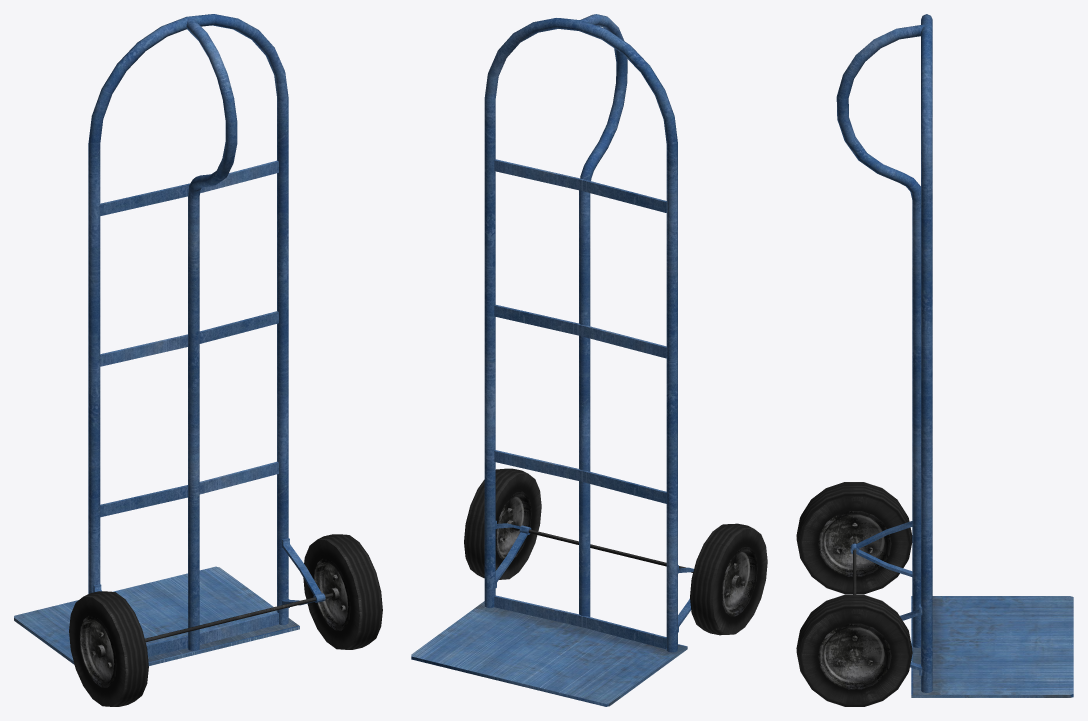
File: handTrolley.fbx
3 renders of one model, left to right at view 1: azimuth 30°, elevation 25°; view 2: azimuth 150°, elevation 25°; view 3: azimuth 270°, elevation 25°, orthographic. The views are drawn at different scales.
Parts seen in each view (by area): view 1: tachka1; view 2: tachka1; view 3: tachka1.
Part boxes in pixels (box(x1,y1,x2,y2)): tachka1: box(14, 14, 382, 706); tachka1: box(411, 14, 767, 706); tachka1: box(796, 14, 1073, 706).
Size of the model in its own units: 73.6 by 173 by 69.52.
